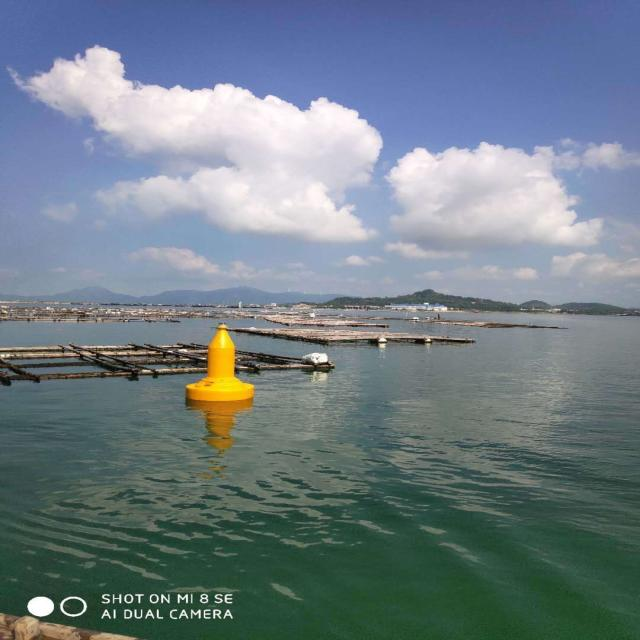buoy: (185, 320, 259, 406)
